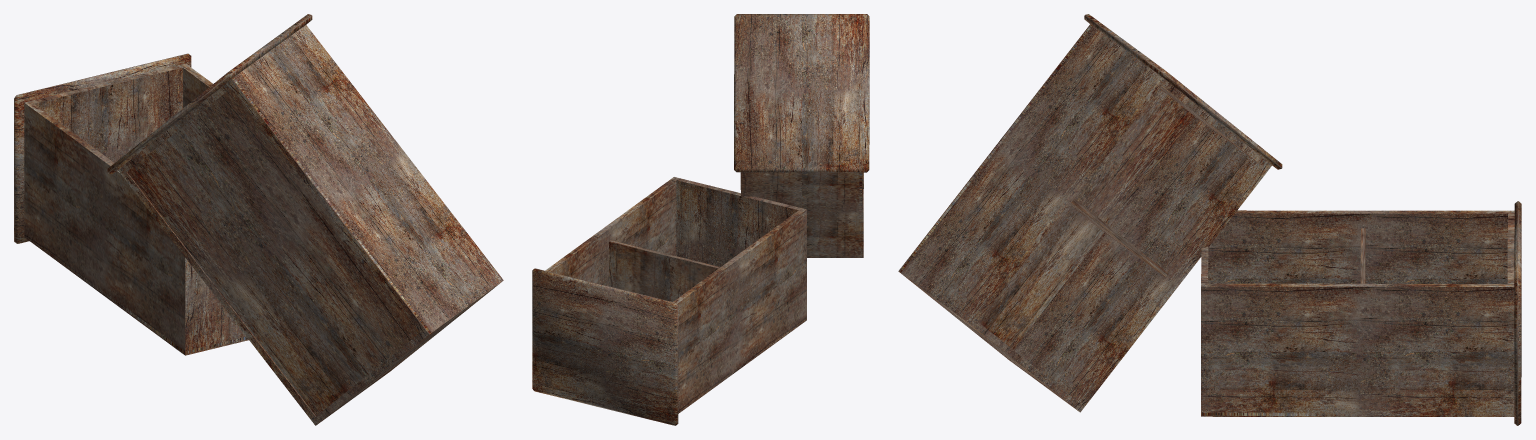
The model's file is Cabinet_Double.fbx.
The picture shows the model from 3 angles, left to right: view 1: azimuth 30°, elevation 25°; view 2: azimuth 150°, elevation 25°; view 3: azimuth 270°, elevation 25°; orthographic projection. The views are drawn at different scales.
Parts seen in each view (by area): view 1: Сabinet_Double; view 2: Сabinet_Double; view 3: Сabinet_Double.
Boxes of the visible parts, <box> form: Сabinet_Double: <box>14,14,503,425</box>; Сabinet_Double: <box>532,14,869,425</box>; Сabinet_Double: <box>898,14,1521,425</box>.
Bounding box in the file's own units: 69.11 × 80.83 × 140.
